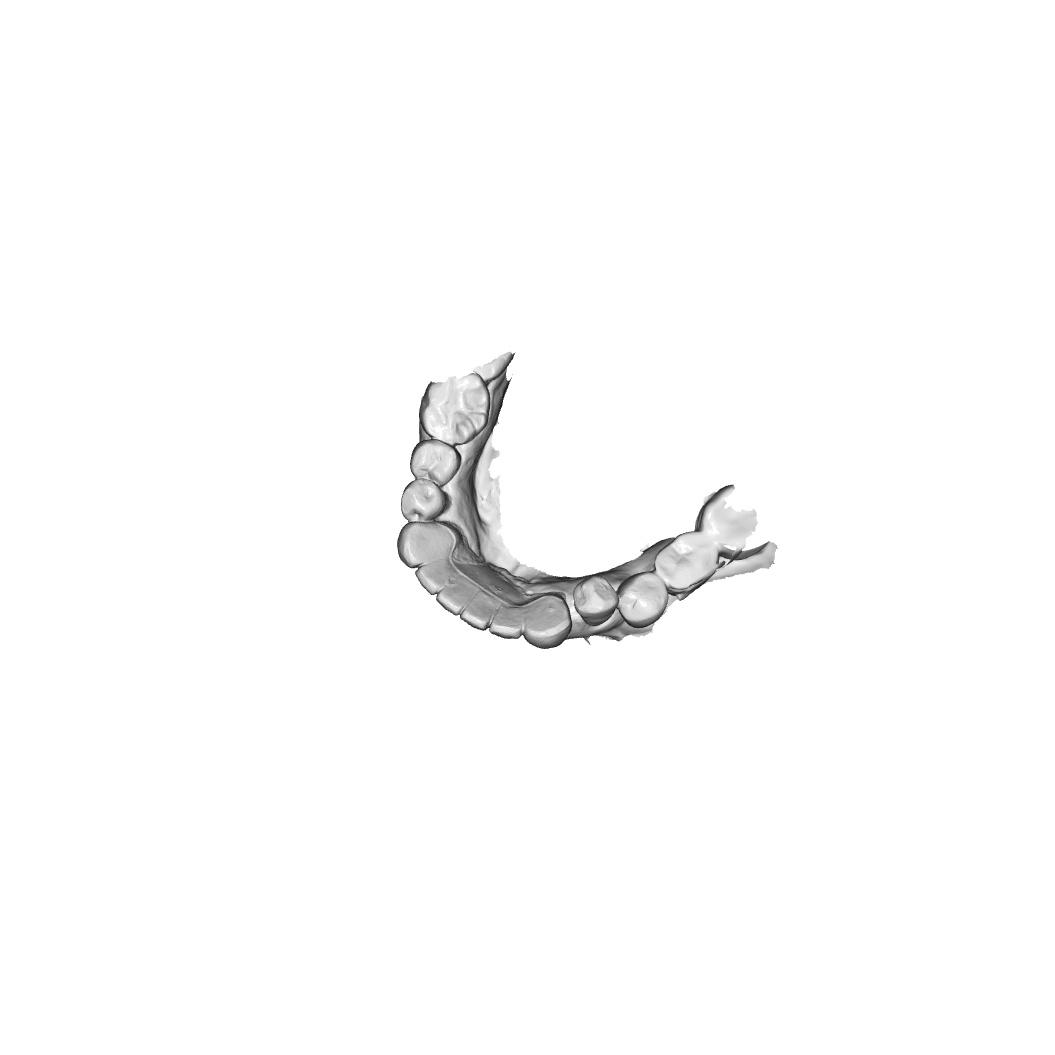canine: (395, 520, 462, 569), (521, 593, 572, 650)
incisor: (488, 603, 524, 641), (459, 600, 494, 632), (414, 564, 446, 596), (435, 587, 464, 617)
molar: (417, 373, 492, 447), (652, 528, 721, 595)
premolar: (616, 569, 669, 631), (572, 573, 619, 629), (409, 438, 462, 487), (399, 478, 450, 524)
